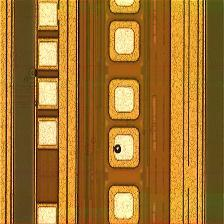PARTICLE: (110, 142, 126, 158)
